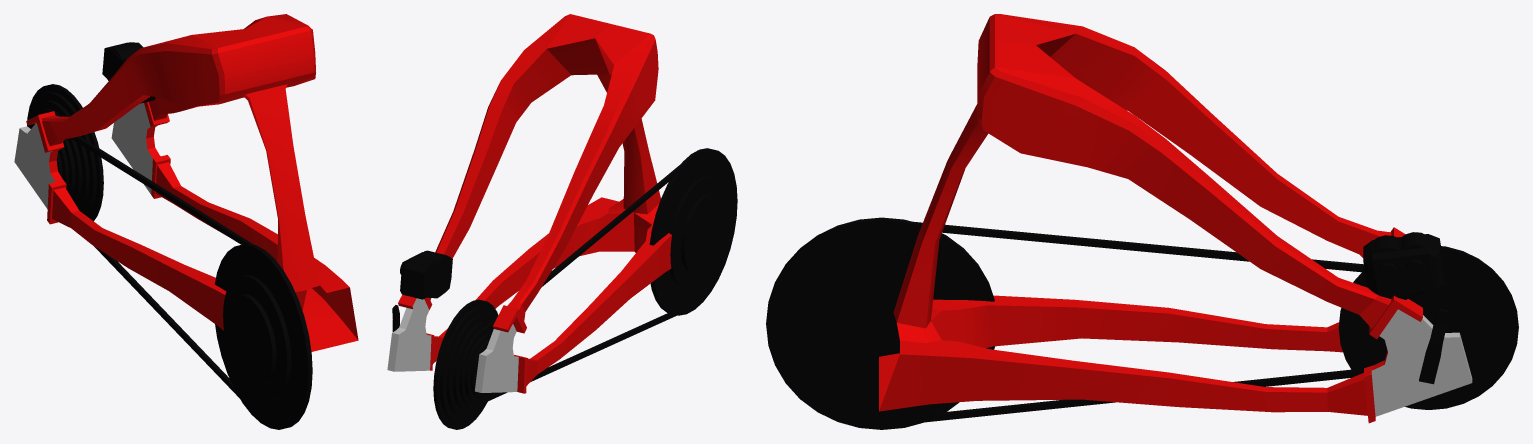
File: bicycle_fullSusp_pendulum.fbx
3 views of the same model, side by side, from view 1: azimuth 30°, elevation 25°; view 2: azimuth 150°, elevation 25°; view 3: azimuth 270°, elevation 25° (orthographic). The views are drawn at different scales.
Visible parts, largest first — view 1: pendulum1; view 2: pendulum1; view 3: pendulum1.
Part boxes in pixels (x1,y1,x2,y2): pendulum1: (14, 14, 358, 429); pendulum1: (387, 14, 737, 429); pendulum1: (766, 14, 1518, 429).
Size of the model in its own units: 13.43 by 32.31 by 53.06.
